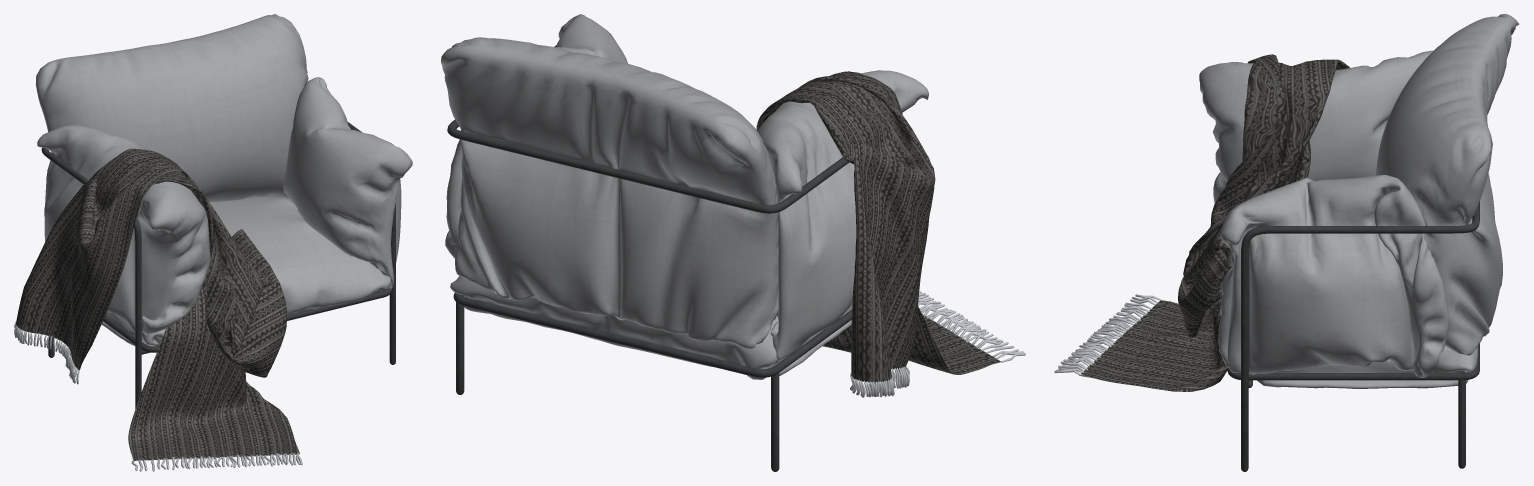
Rendered from armchair-2k.glb.
3 views of the same model, side by side, from view 1: azimuth 30°, elevation 25°; view 2: azimuth 150°, elevation 25°; view 3: azimuth 270°, elevation 25° (orthographic). The views are drawn at different scales.
Parts seen in each view (by area): view 1: Cloth_LP, Pillow_Back_LP, Pillows_Side_LP, Pillow_Seat_LP, Base_METAL, Cloth_End; view 2: Pillow_Back_LP, Cloth_LP, Pillows_Side_LP, Base_METAL, Pillow_Seat_LP, Cloth_End; view 3: Pillows_Side_LP, Pillow_Back_LP, Cloth_LP, Base_METAL, Pillow_Seat_LP, Cloth_End.
Boxes of the visible parts, x1,y1,x2,y2 form: Cloth_LP: (16,148,299,460); Pillow_Back_LP: (35,14,308,201); Pillows_Side_LP: (37,77,412,335); Pillow_Seat_LP: (101,196,390,346); Base_METAL: (41,122,395,408); Cloth_End: (14,321,302,471); Pillow_Back_LP: (441,37,778,348); Cloth_LP: (756,71,1000,382); Pillows_Side_LP: (445,14,928,360); Base_METAL: (447,45,906,471); Pillow_Seat_LP: (450,276,852,379); Cloth_End: (850,291,1025,397); Pillows_Side_LP: (1199,50,1448,377); Pillow_Back_LP: (1376,14,1519,355); Cloth_LP: (1079,54,1349,391); Base_METAL: (1227,201,1479,471); Pillow_Seat_LP: (1218,267,1477,388); Cloth_End: (1054,294,1161,375).
Bounding box in the file's own units: 1.03 × 0.8 × 1.02.
Materials: 1 (1 with a texture image).
